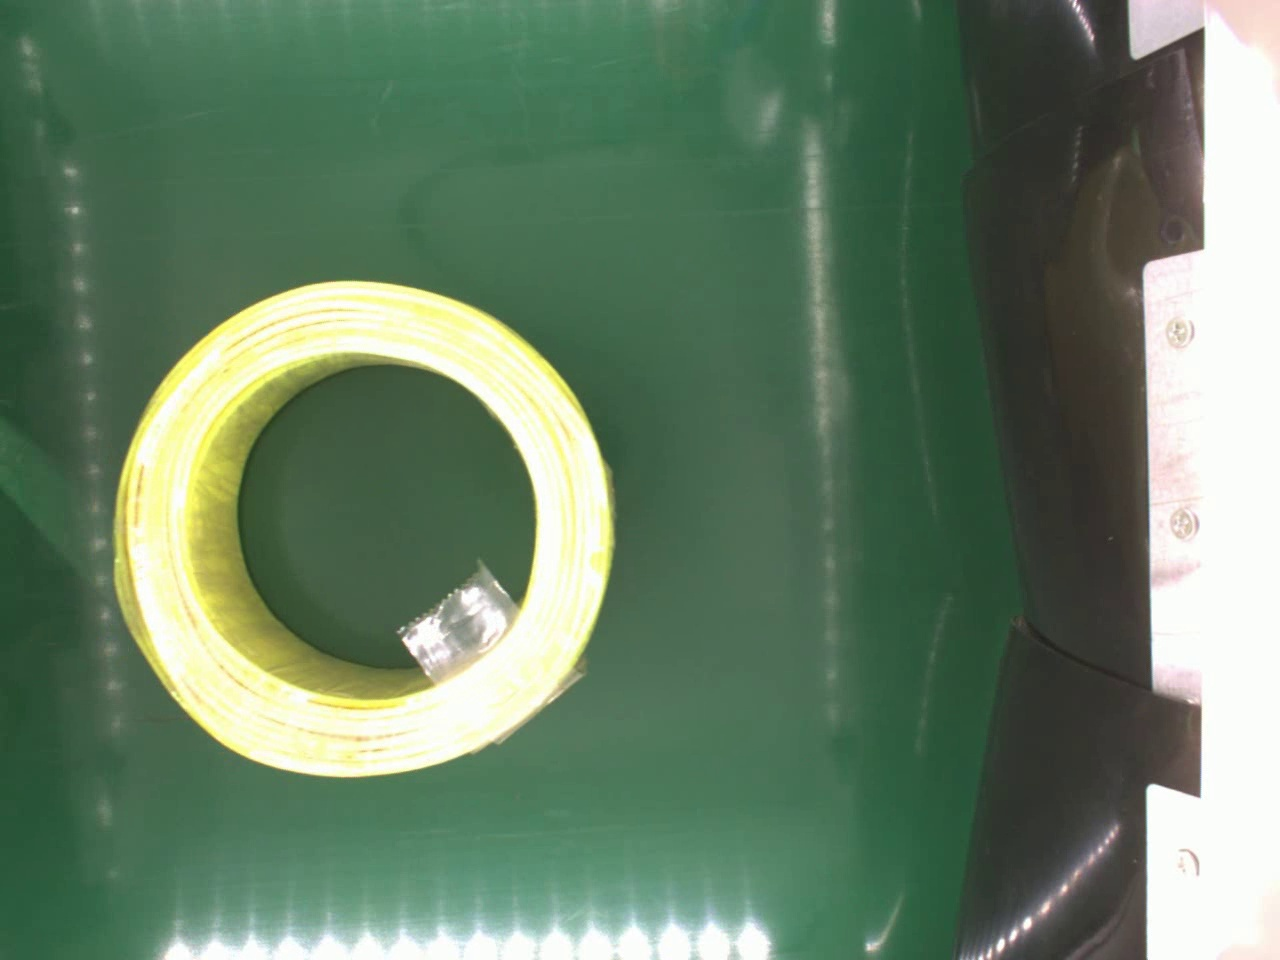yellow: (106, 276, 619, 781)
